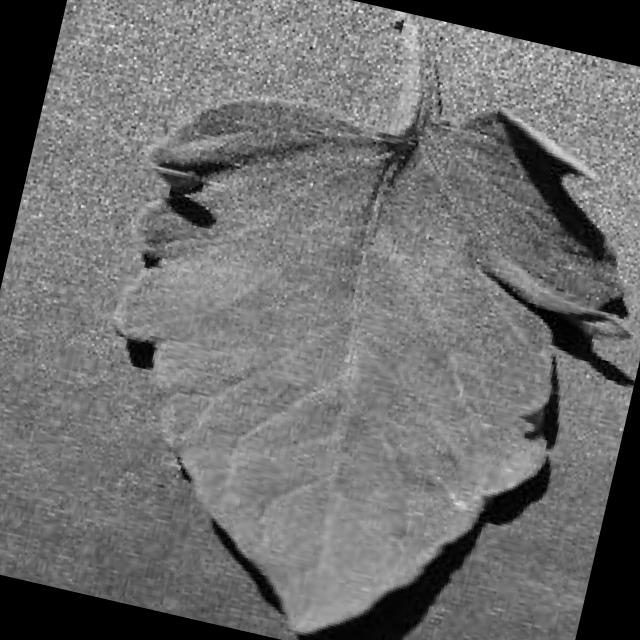healthy: (112, 27, 629, 630)
